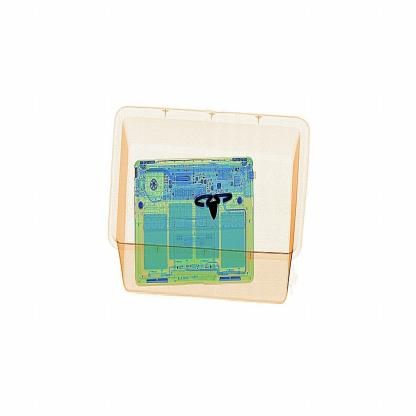gun: (184, 182, 241, 228)
